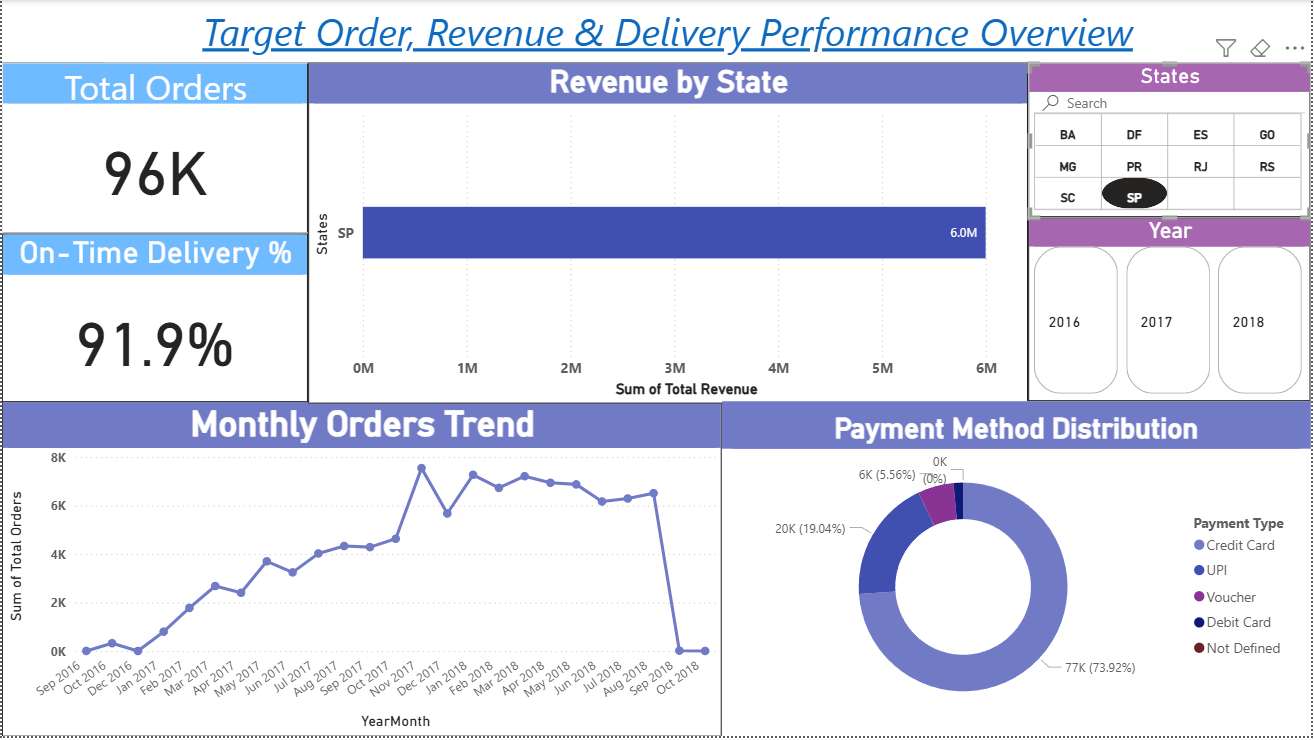

What the dashboard file says about the page in this screenshot:
{"tool":"powerbi","page":{"name":"Page 1","canvas":[1280,720],"ordinal":0},"visuals":[{"type":"card","title":"Total Orders","fields":{"Values":["Sum(Delivery Performance.Total Orders)"]},"box":[0,61.1,299.6,167.5],"z":0},{"type":"card","title":"On-Time Delivery %","fields":{"Values":["Delivery Performance.On-Time Delivery %"]},"box":[0,228.7,299.6,166.3],"z":1000},{"type":"lineChart","title":"Monthly Orders Trend","fields":{"Category":["Table3.YearMonth"],"Y":["Sum(Table3.Total Orders)"]},"box":[0,392.5,704.4,327.7],"z":2000},{"type":"clusteredBarChart","title":"Revenue by State","fields":{"Category":["Top 10 States Revenue.States"],"Y":["Sum(Top 10 States Revenue.Total Revenue)"]},"box":[299.6,61.1,704.4,333.8],"z":3000},{"type":"advancedSlicerVisual","fields":{"Values":["Top 10 States Revenue.States"]},"box":[1003.9,61.1,276.4,152.9],"z":4000},{"type":"donutChart","title":"Payment Method Distribution","fields":{"Category":["Payment Method Distribution.Payment Type"],"Y":["Sum(Payment Method Distribution.Total Orders)"]},"box":[704.4,392.5,576,327.7],"z":5000},{"type":"advancedSlicerVisual","fields":{"Values":["Table3.Year"]},"box":[1003.9,211.6,276.4,181],"z":5001},{"type":"textbox","box":[100.3,0,1101.8,61.1],"z":5002}]}

Visuals, with their boxes in screenshot pixels (x1, y1, x2, y2), scaled from the page's 1280x720 canvas onto the 1314x740 screenshot:
"Total Orders" card: {"left": 0, "top": 63, "right": 308, "bottom": 235}
"On-Time Delivery %" card: {"left": 0, "top": 235, "right": 308, "bottom": 406}
"Monthly Orders Trend" lineChart: {"left": 0, "top": 403, "right": 723, "bottom": 739}
"Revenue by State" clusteredBarChart: {"left": 308, "top": 63, "right": 1031, "bottom": 406}
advancedSlicerVisual - Top 10 States Revenue.States: {"left": 1031, "top": 63, "right": 1313, "bottom": 220}
"Payment Method Distribution" donutChart: {"left": 723, "top": 403, "right": 1313, "bottom": 739}
advancedSlicerVisual - Table3.Year: {"left": 1031, "top": 217, "right": 1313, "bottom": 404}
textbox: {"left": 103, "top": 0, "right": 1234, "bottom": 63}
